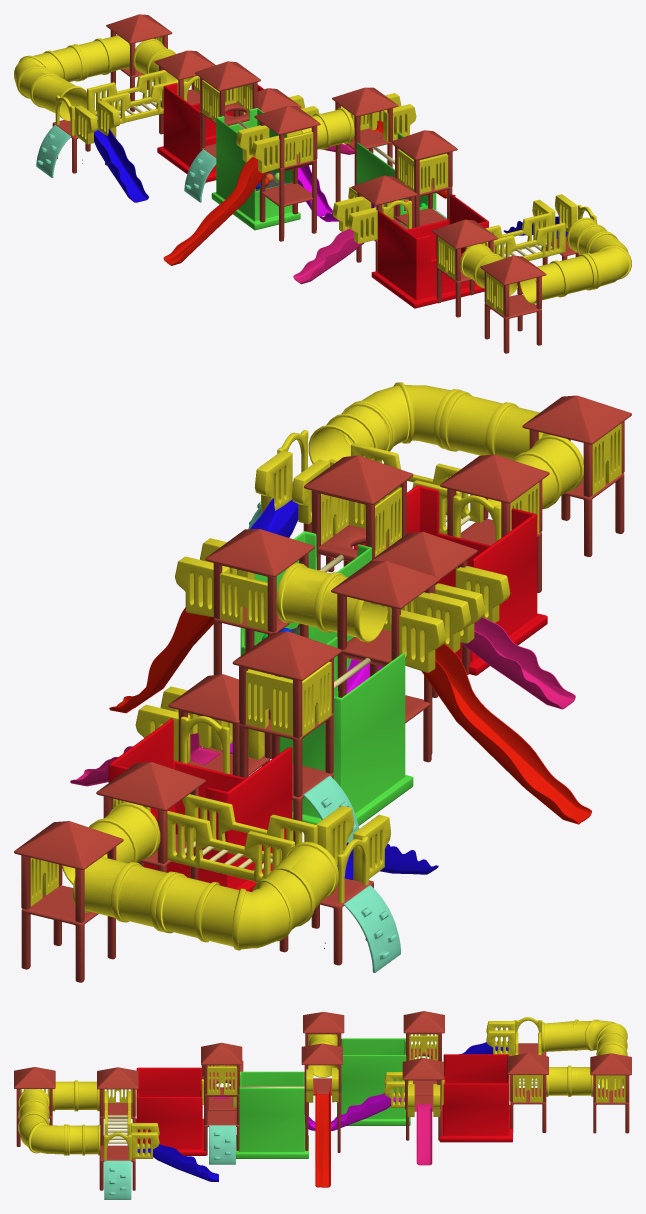
Rendered from Park.fbx.
3 renders of one model, top to bottom at view 1: azimuth 30°, elevation 25°; view 2: azimuth 150°, elevation 25°; view 3: azimuth 270°, elevation 25°, orthographic. The views are drawn at different scales.
Visible parts, largest first — view 1: SETT.056, SETT.034, SETT.037, SETT.006, SETT.039, SETT.018, SETT.027, SETT.064, SETT.051, SETT.040, SETT.022, SETT.009 (+27 smaller); view 2: SETT.006, SETT.034, SETT.037, SETT.018, SETT.056, SETT.013, SETT.022, SETT.039, SETT.031, SETT.051, SETT.064, SETT.040 (+33 smaller); view 3: SETT.018, SETT.043, SETT.056, SETT.034, SETT.006, SETT.042, SETT.065, SETT.040, SETT.022, SETT.007, SETT.013, SETT.058 (+27 smaller).
Boxes of the visible parts, <box> form: SETT.056: <box>371,193,488,308</box>; SETT.034: <box>211,108,300,230</box>; SETT.037: <box>163,125,279,265</box>; SETT.006: <box>14,45,86,120</box>; SETT.039: <box>254,106,320,241</box>; SETT.018: <box>157,83,263,182</box>; SETT.027: <box>75,100,148,202</box>; SETT.064: <box>480,255,546,353</box>; SETT.051: <box>293,196,377,284</box>; SETT.040: <box>332,87,398,202</box>; SETT.022: <box>195,61,260,183</box>; SETT.009: <box>520,253,597,303</box>; SETT.006: <box>156,842,338,950</box>; SETT.034: <box>279,637,413,825</box>; SETT.037: <box>391,592,591,824</box>; SETT.018: <box>108,718,292,891</box>; SETT.056: <box>353,485,547,675</box>; SETT.013: <box>14,821,123,982</box>; SETT.022: <box>232,631,341,845</box>; SETT.039: <box>331,561,440,762</box>; SETT.031: <box>167,794,317,882</box>; SETT.051: <box>435,566,575,709</box>; SETT.064: <box>522,395,631,556</box>; SETT.040: <box>205,529,314,675</box>; SETT.018: <box>439,1054,512,1142</box>; SETT.043: <box>236,1071,308,1158</box>; SETT.056: <box>135,1067,206,1155</box>; SETT.034: <box>337,1038,410,1125</box>; SETT.006: <box>541,1019,627,1053</box>; SETT.042: <box>306,1067,338,1187</box>; SETT.065: <box>131,1123,218,1181</box>; SETT.040: <box>301,1043,342,1152</box>; SETT.022: <box>403,1011,444,1095</box>; SETT.007: <box>18,1112,67,1155</box>; SETT.013: <box>590,1053,631,1133</box>; SETT.058: <box>97,1067,138,1145</box>.
Size of the model in its own units: 3289 by 1239 by 6354.
